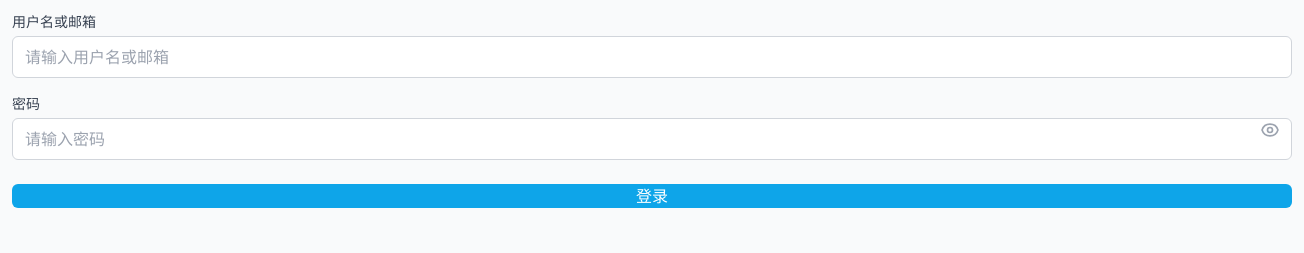
Test: LoginForm - 表单验证 › 字段失焦时应该触发验证（空密码）
Step 1. Click the password field labelled "密码" → [652, 139], box 12,118 -> 1292,160
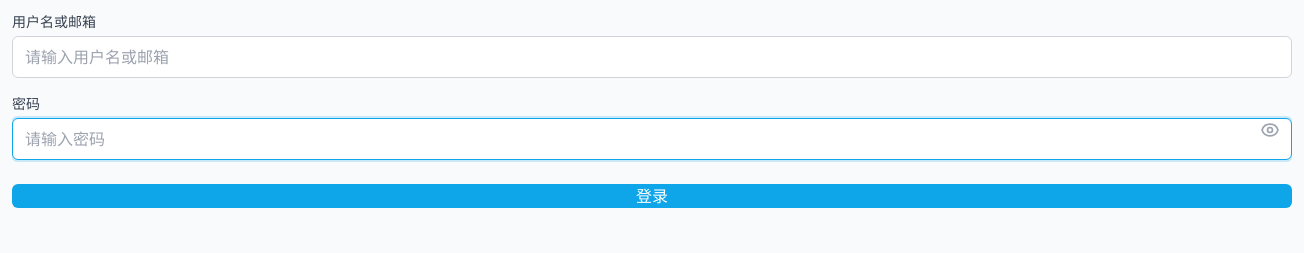
Step 2. Press Tab
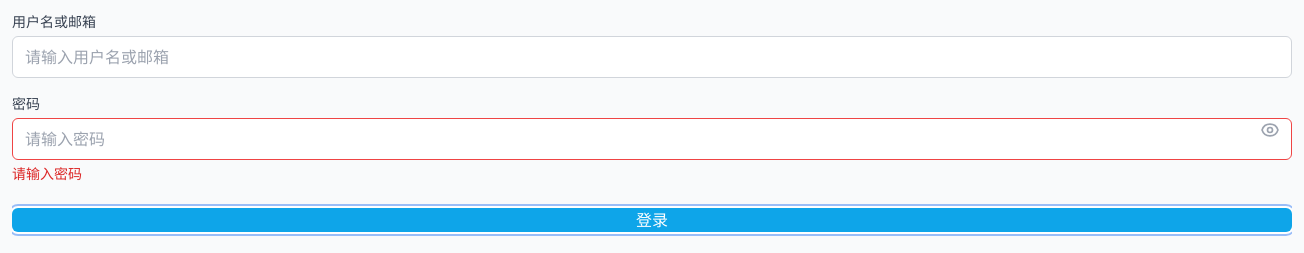
Expected: the text "请输入密码" is shown, 12,165 -> 82,182
